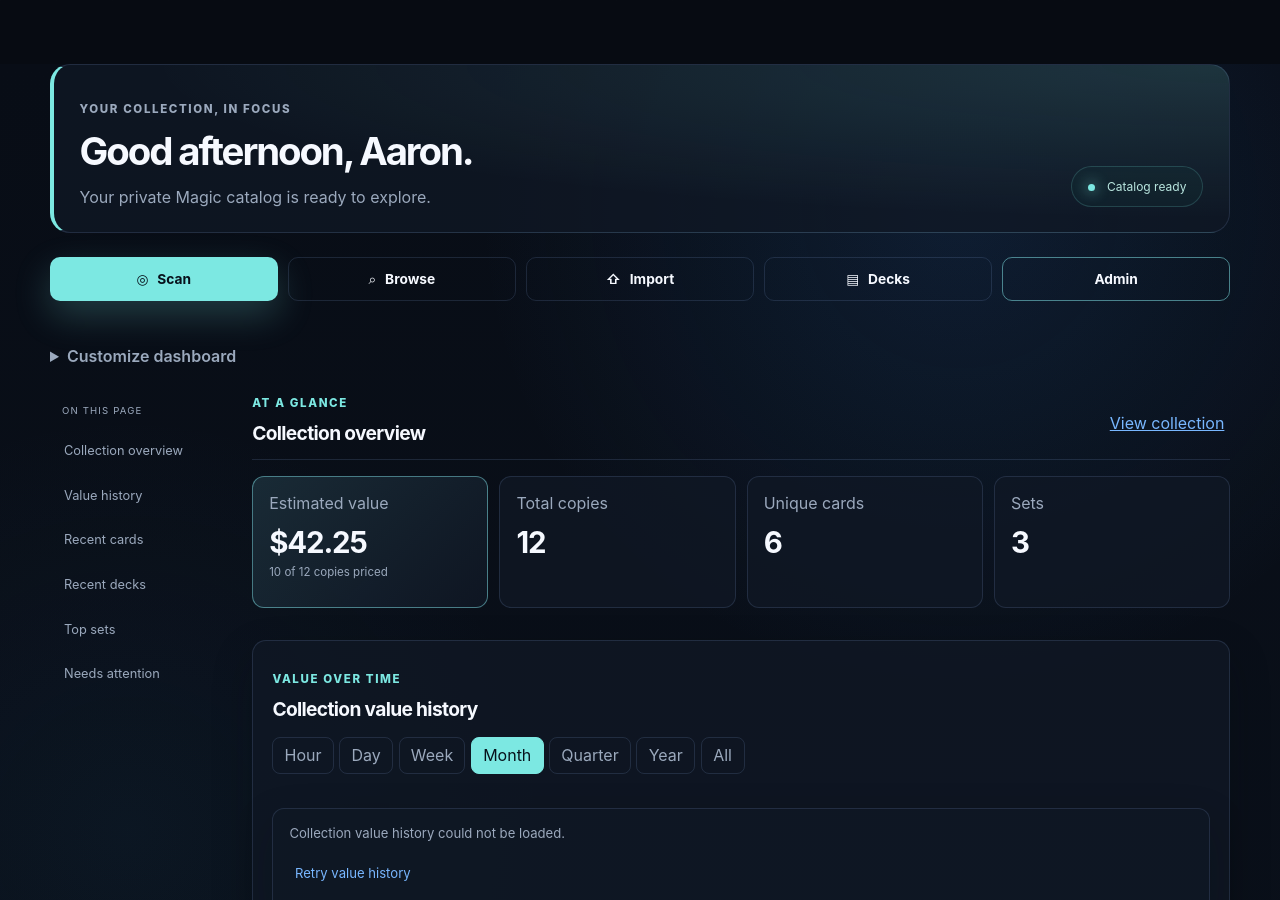
it: keeps the dashboard useful when value history is unavailable and retries only that widget
Expected: the message named "collection value history unavailable" shows "could not be loaded", [289,825,565,841]
Expected: the text "$42.25" is shown, [269,524,367,560]
Click the button "Retry value history".
click(353, 873)  # box [289,851,416,895]
(page scrolled)
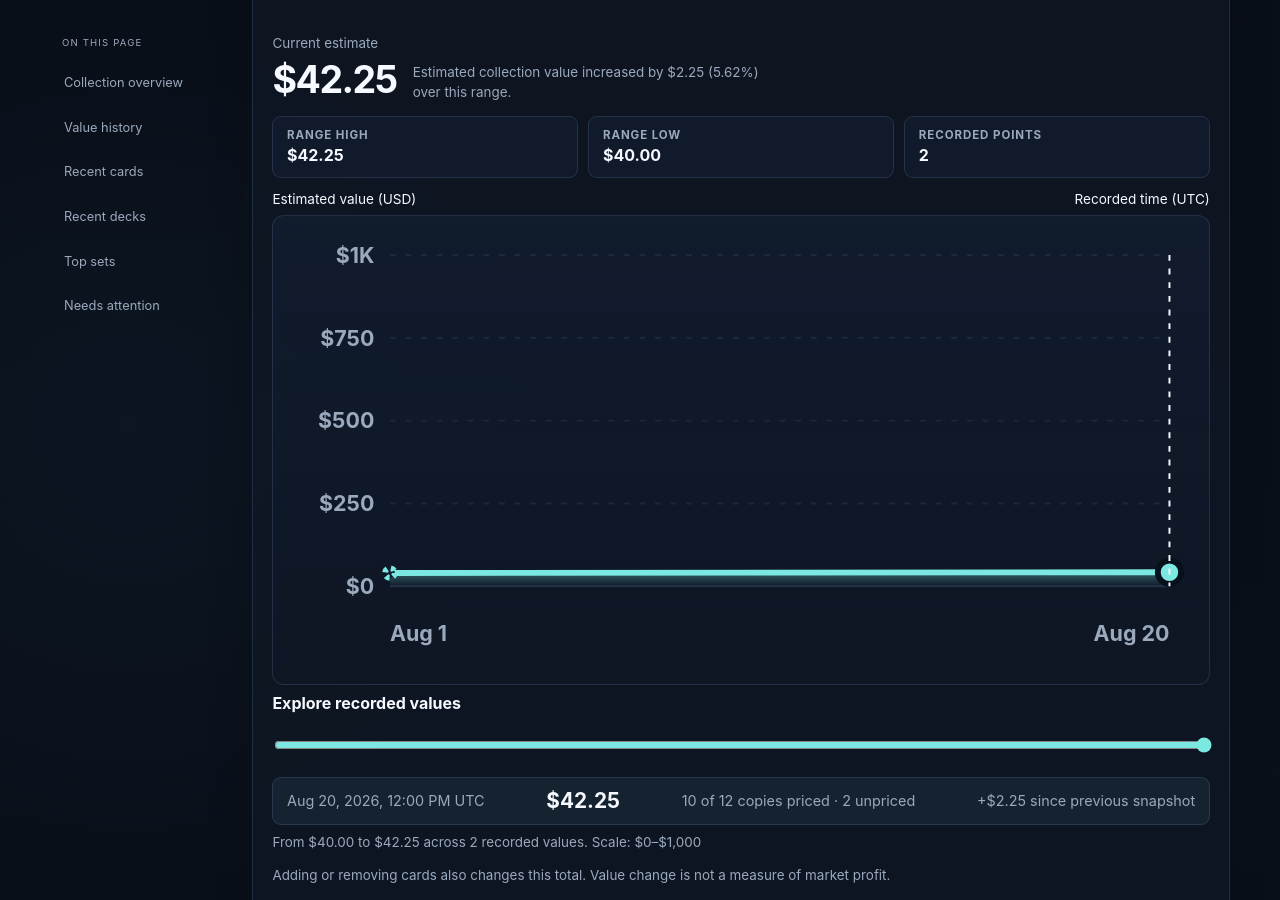
Expected: the picture named "estimated collection value over the last month" is shown, [272,215,1210,685]
